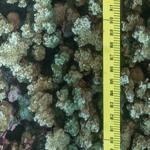dead: (7, 3, 147, 148)
